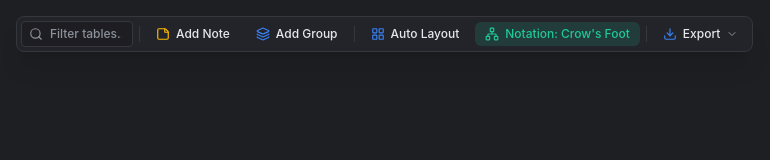
Test: ErdCanvas component › toggles notation style between Crow's Foot and Simple edge notations
This screenshot has width=770, height=160.
Click the button with test id "notation-toggle-btn": (558, 34) [475,22,640,46]
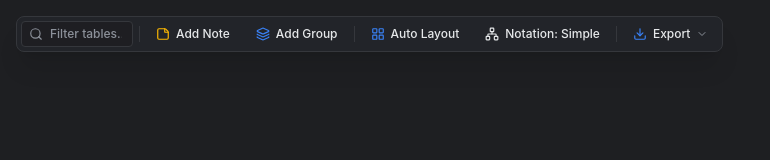
Expected: the button with test id "notation-toggle-btn" reads "Notation: Simple"
Click the button with test id "notation-toggle-btn": (543, 34) [475,22,610,46]
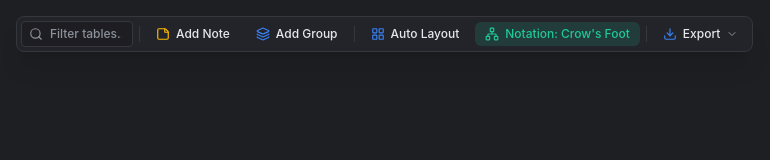
Expected: the button with test id "notation-toggle-btn" reads "Notation: Crow's Foot", [475,22,640,46]
